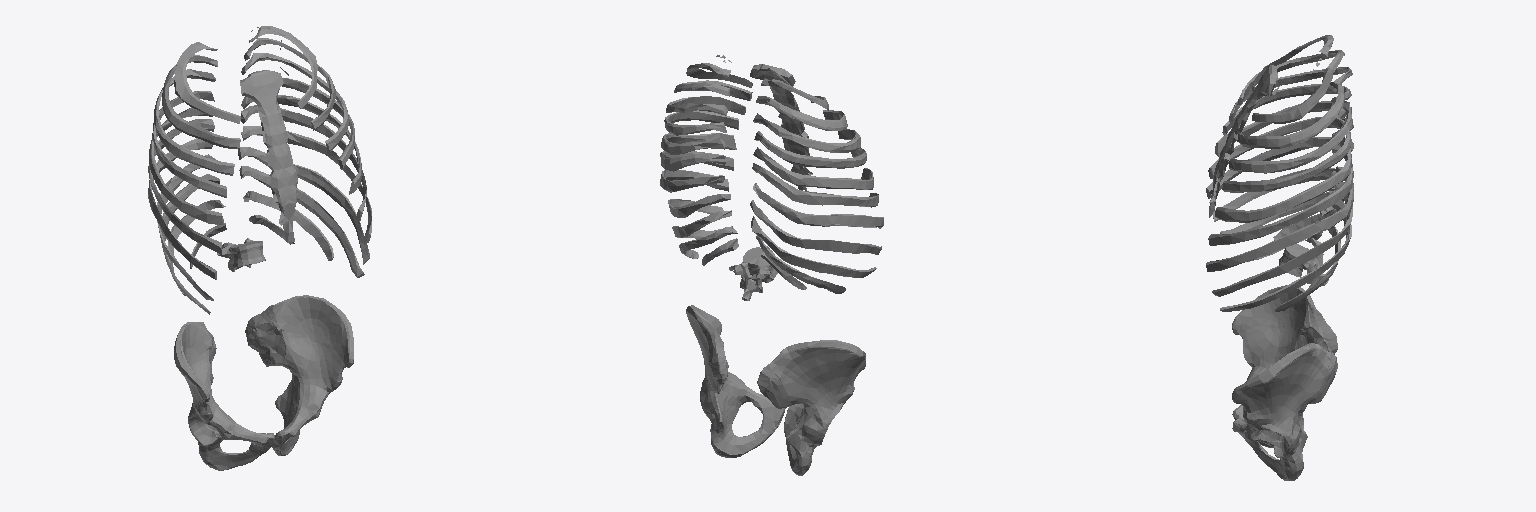
Rendered from torso2.obj.
The picture shows the model from 3 angles: view 1: azimuth 30°, elevation 25°; view 2: azimuth 150°, elevation 25°; view 3: azimuth 270°, elevation 25°; orthographic projection.
Parts seen in each view (by area): view 1: sub02; view 2: sub02; view 3: sub02.
Boxes of the visible parts, x1=… form: sub02: x1=148, y1=26, x2=371, y2=470; sub02: x1=660, y1=55, x2=883, y2=475; sub02: x1=1206, y1=35, x2=1353, y2=480.
Size of the model in its own units: 12.06 by 24.81 by 8.01.